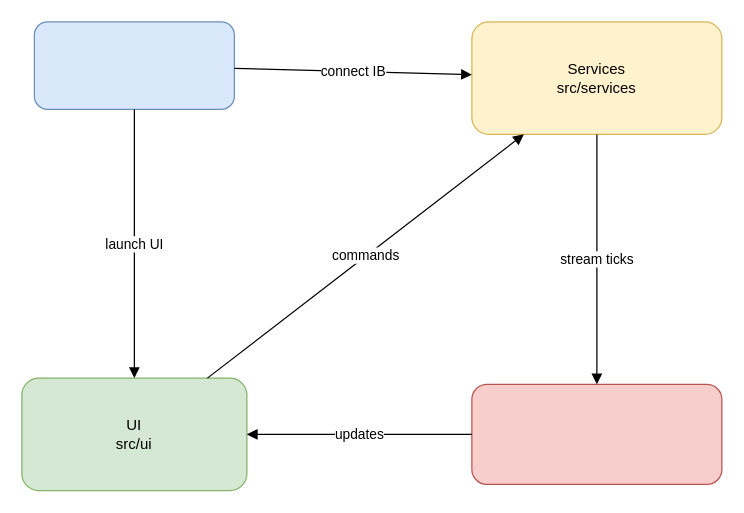
This 744x513 diagram has some shape labels left out. Here are the shapes that lost their labels. From the top down, the box of each, then its label:
(33, 21, 234, 109): App src/app.py
(471, 383, 722, 484): Live Data src/data
